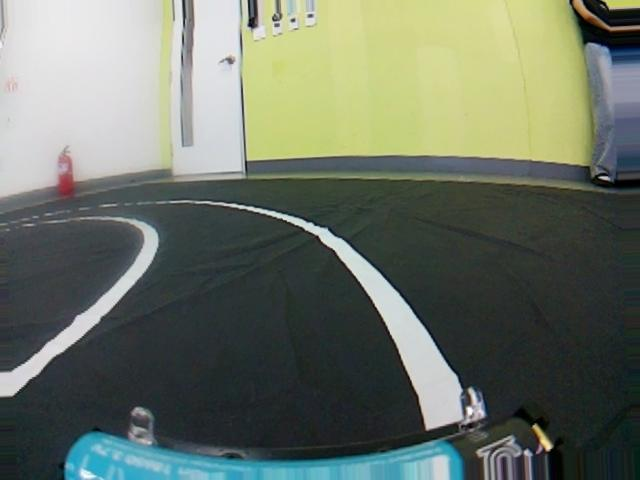left: (0, 209, 570, 479)
